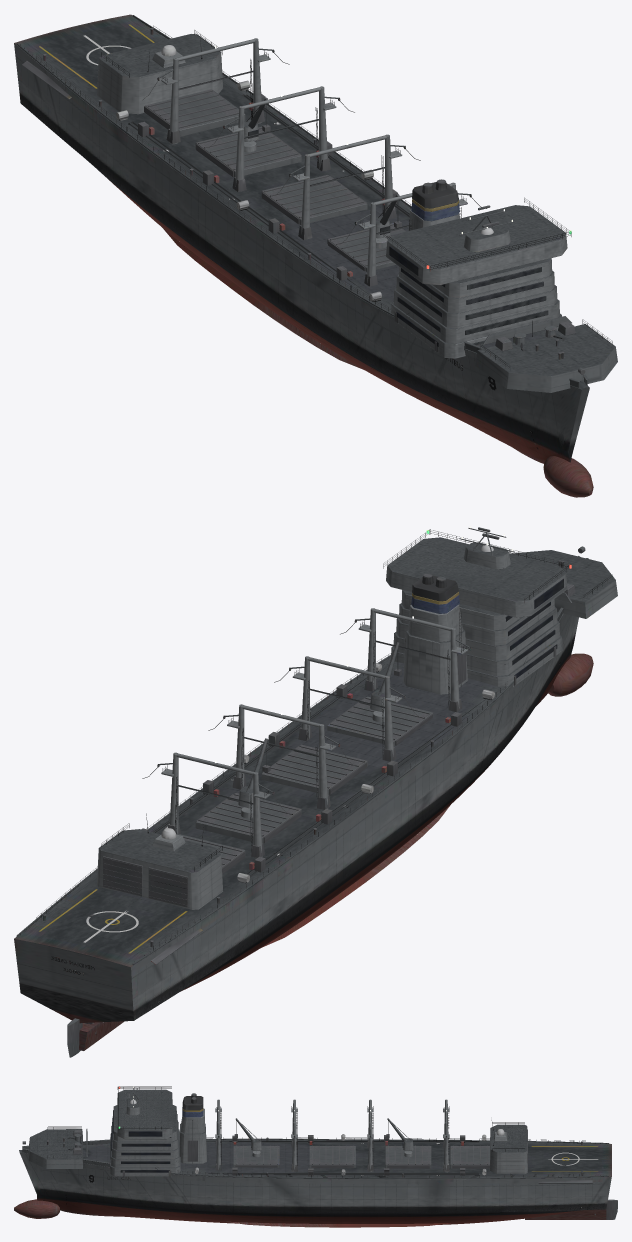
The model's file is take.glb.
3 renders of one model, top to bottom at view 1: azimuth 30°, elevation 25°; view 2: azimuth 150°, elevation 25°; view 3: azimuth 270°, elevation 25°, orthographic. The views are drawn at different scales.
Parts seen in each view (by area): view 1: ake_hull, ake_super, ake_detail; view 2: ake_hull, ake_super, ake_detail; view 3: ake_hull, ake_super, ake_detail.
Boxes of the visible parts, x1,y1,x2,y2 form: ake_hull: [14, 14, 593, 497]; ake_super: [16, 15, 617, 392]; ake_detail: [20, 16, 612, 448]; ake_hull: [14, 612, 593, 1057]; ake_super: [16, 527, 617, 965]; ake_detail: [20, 526, 612, 1002]; ake_hull: [14, 1139, 617, 1227]; ake_super: [22, 1087, 608, 1178]; ake_detail: [47, 1086, 606, 1210].
Bounding box in the file's own units: 34.1 × 49.96 × 210.
Materials: 19 (19 with a texture image).
